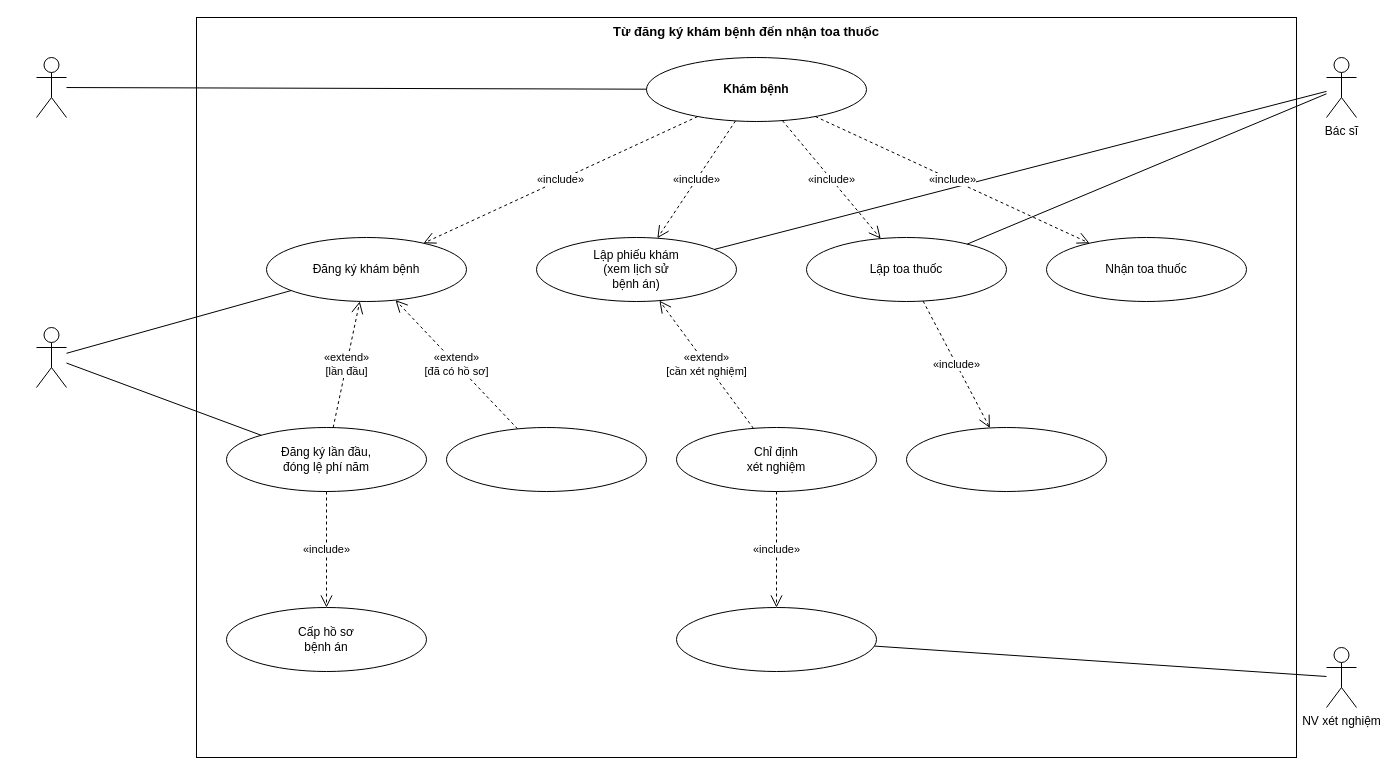
The diagram is 1398 pixels wide and 775 high, and some of its shapes have lost their labels. The centre of each missing label's shape, as x and y in pixels:
Bệnh nhân: the point at 51,87
Chọn thuốc, liều dùng: the point at 1006,459
Ghi kết quả xét nghiệm: the point at 776,639
NV tiếp nhận: the point at 51,357
Tra cứu hồ sơ bệnh án: the point at 546,459
